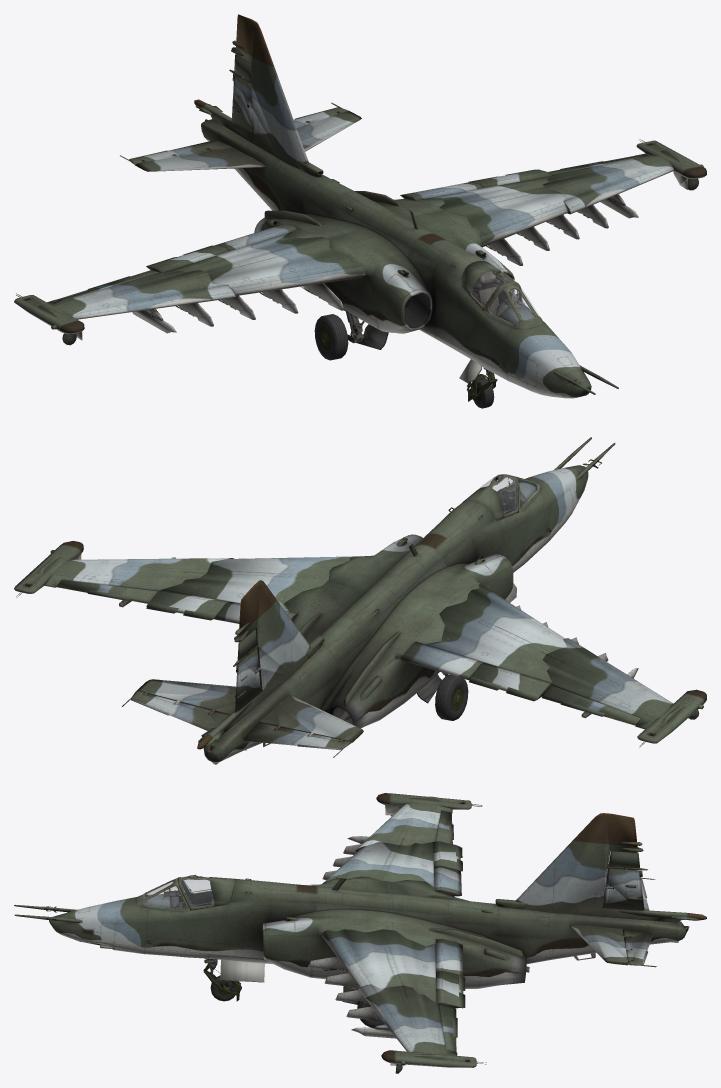
File: su-25-maximum-compressed.glb
3 renders of one model, top to bottom at view 1: azimuth 30°, elevation 25°; view 2: azimuth 150°, elevation 25°; view 3: azimuth 270°, elevation 25°, orthographic. The views are drawn at different scales.
Parts seen in each view (by area): view 1: Object_4, Object_3, Object_5; view 2: Object_4, Object_3, Object_5; view 3: Object_4, Object_3, Object_5.
Boxes of the visible parts, x1,y1,x2,y2 form: Object_4: (201,102,706,398); Object_3: (14,14,595,408); Object_5: (471,269,539,324); Object_4: (14,437,591,764); Object_3: (197,443,706,757); Object_5: (479,475,538,514); Object_4: (14,876,689,1073); Object_3: (14,793,706,1027); Object_5: (144,877,213,908).
Size of the model in its own units: 294 by 95.79 by 319.
2 materials, 2 textured.
